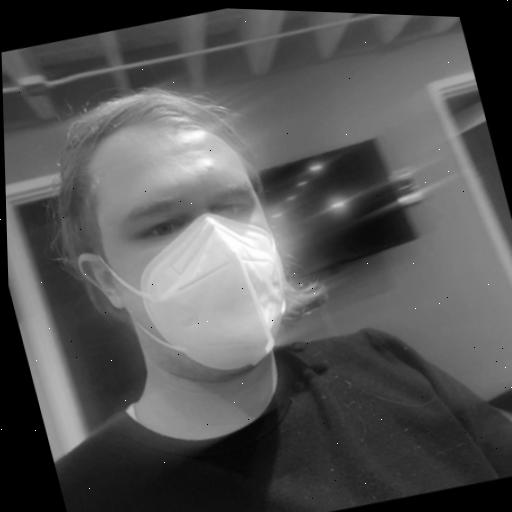mask: (24, 41, 371, 468)
